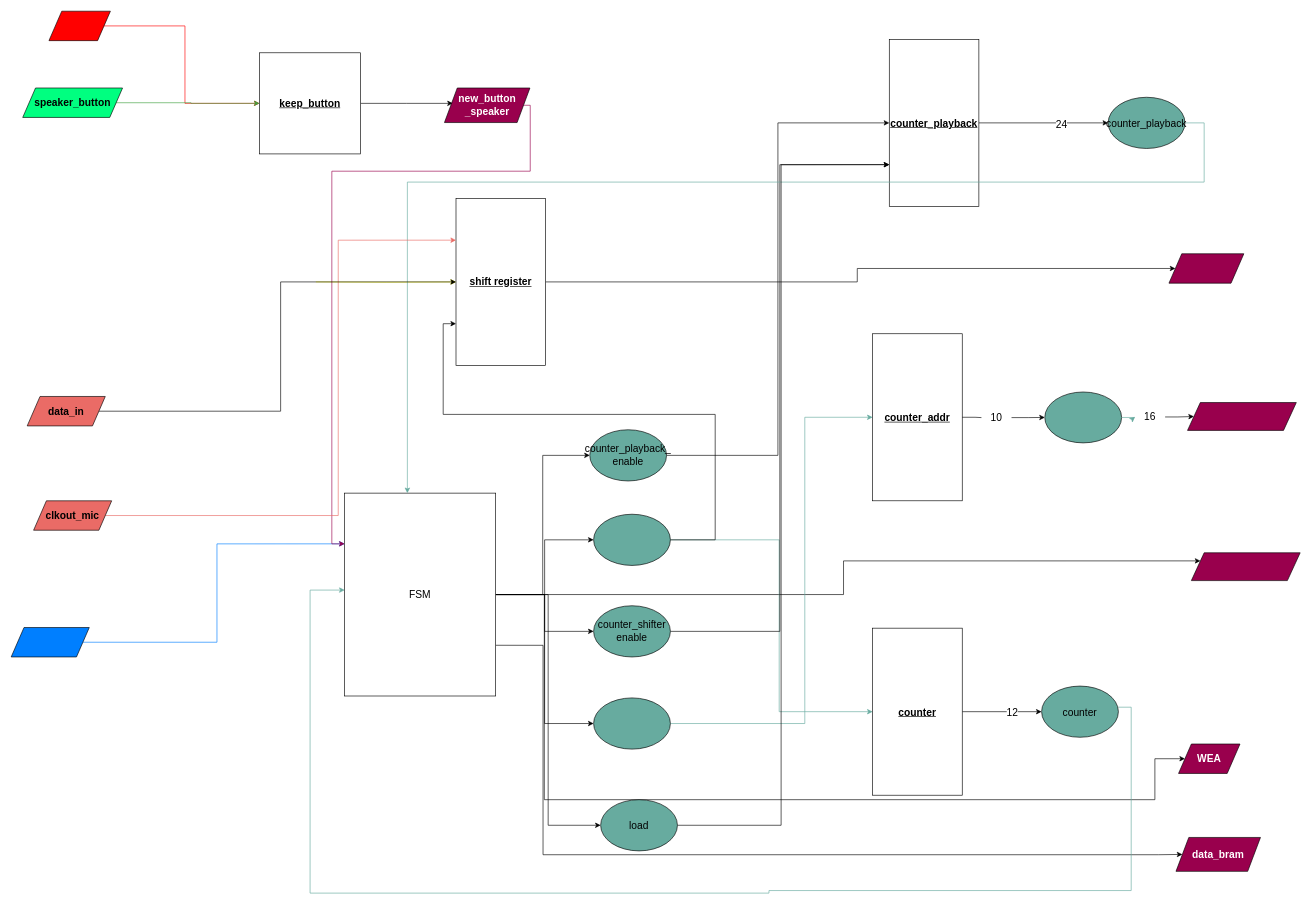
The diagram is 1311 pixels wide and 909 high, and some of its shapes have lost their labels. The centre of each missing label's shape, as x and y in pixels:
"addr_count" belongs at point (1083, 417).
"addr_count_new" belongs at point (1241, 416).
"addr_enable" belongs at point (631, 723).
"audioEnPWM" belongs at point (1245, 566).
"clkout_sys" belongs at point (50, 642).
"counter_enable" belongs at point (631, 539).
"data_out" belongs at point (1206, 268).
"reset" belongs at point (79, 26).
